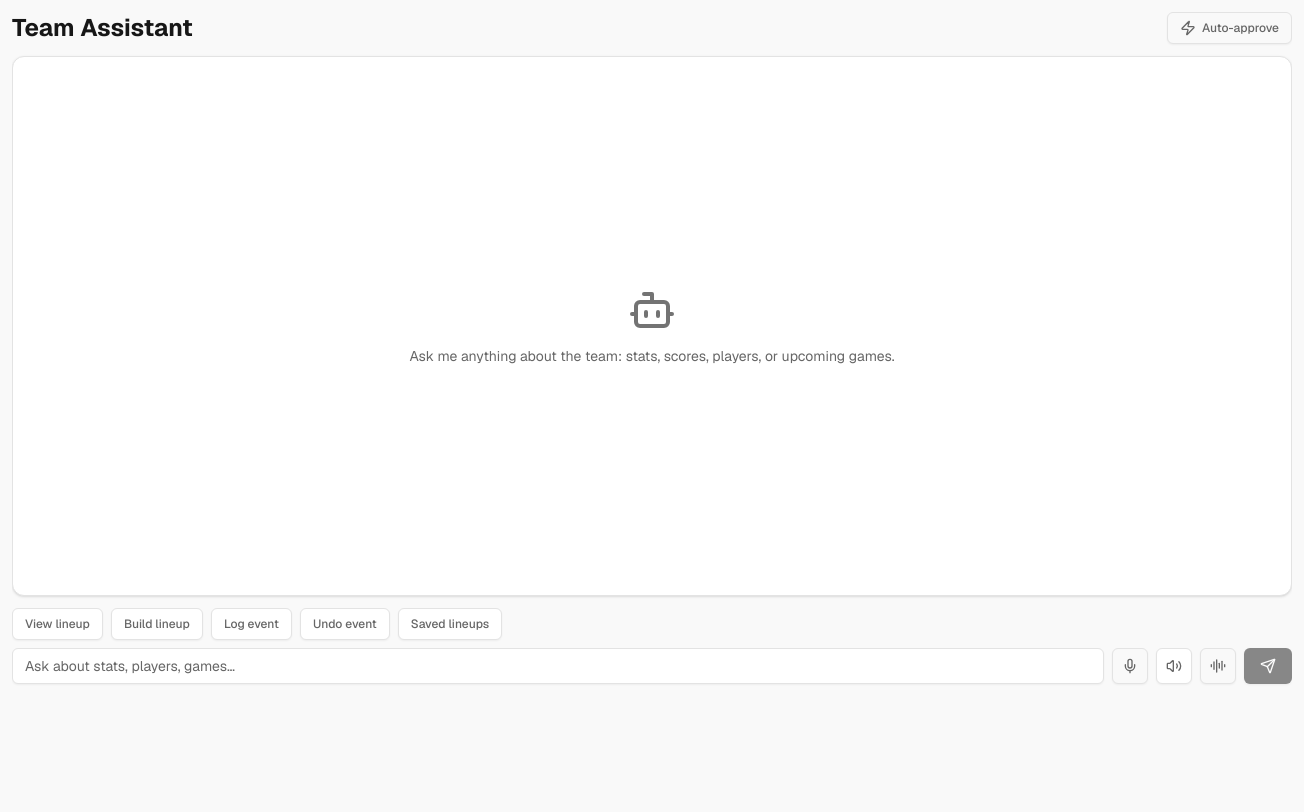
Chat inline proposal cards › Approve posts to /api/chat/confirm and settles with the receipt surfaced
Expected: the text "Ask me anything about the team" is shown, [409, 347, 895, 365]
In the field with placeholder "Ask about stats, players, games…": (558, 666) [12, 648, 1104, 684], type "put maya on line 1"
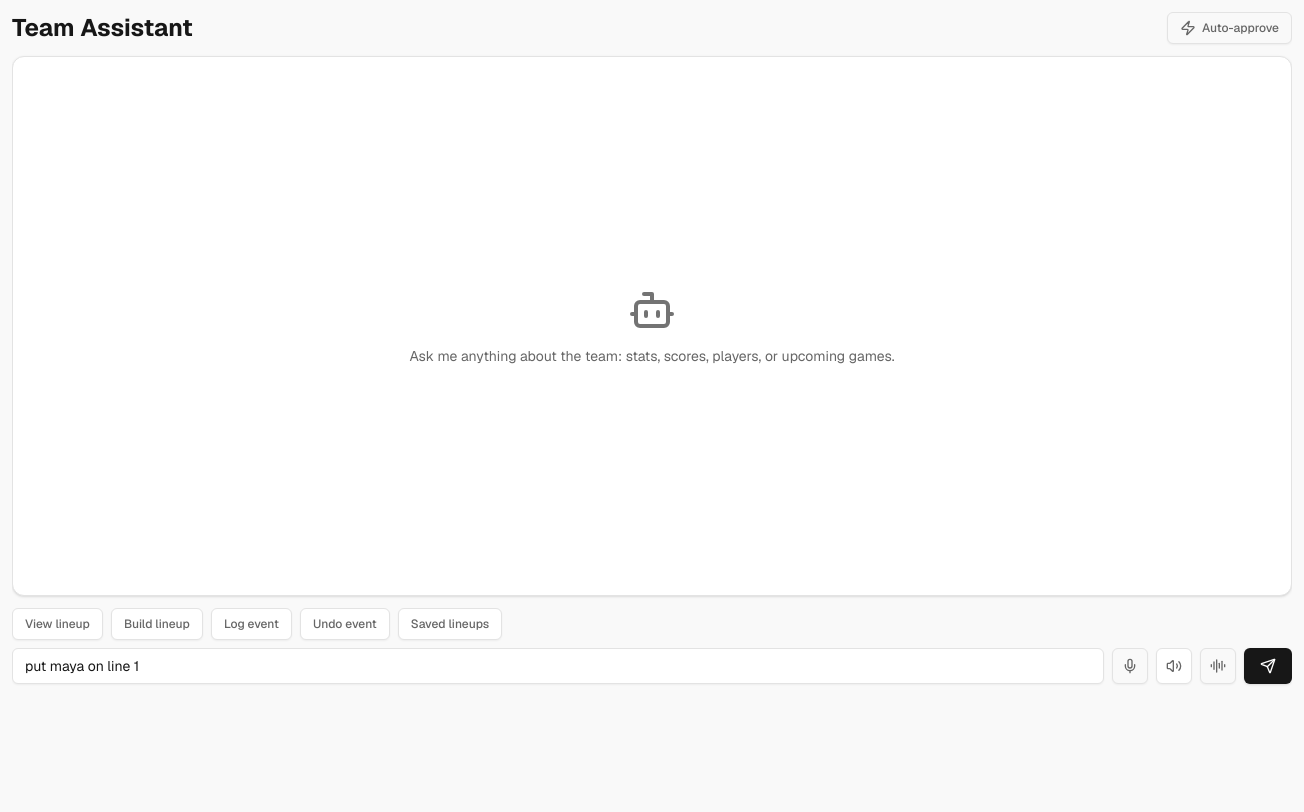
Press Enter in the field with placeholder "Ask about stats, players, games…", box [12, 648, 1104, 684]
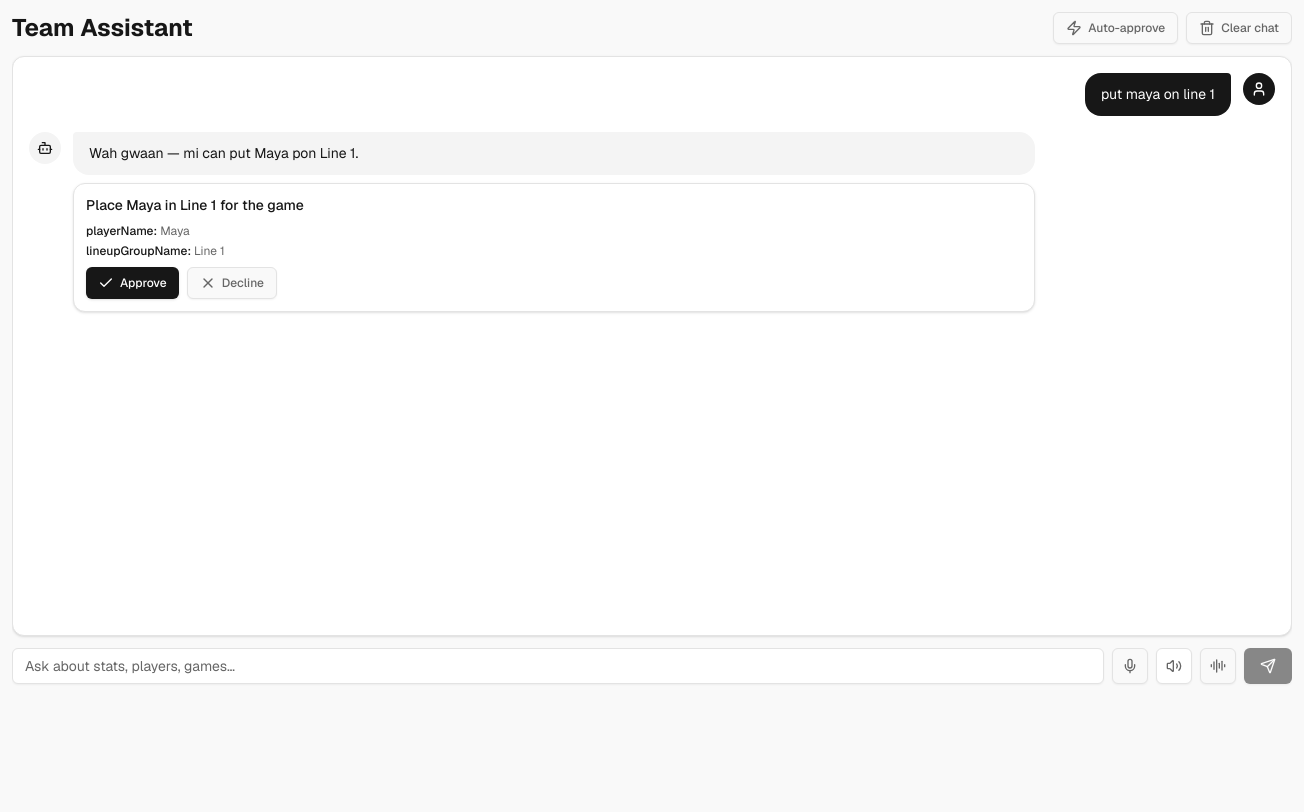
Expected: the button "Approve" is shown
Click the button "Approve": (132, 283) [86, 267, 179, 299]
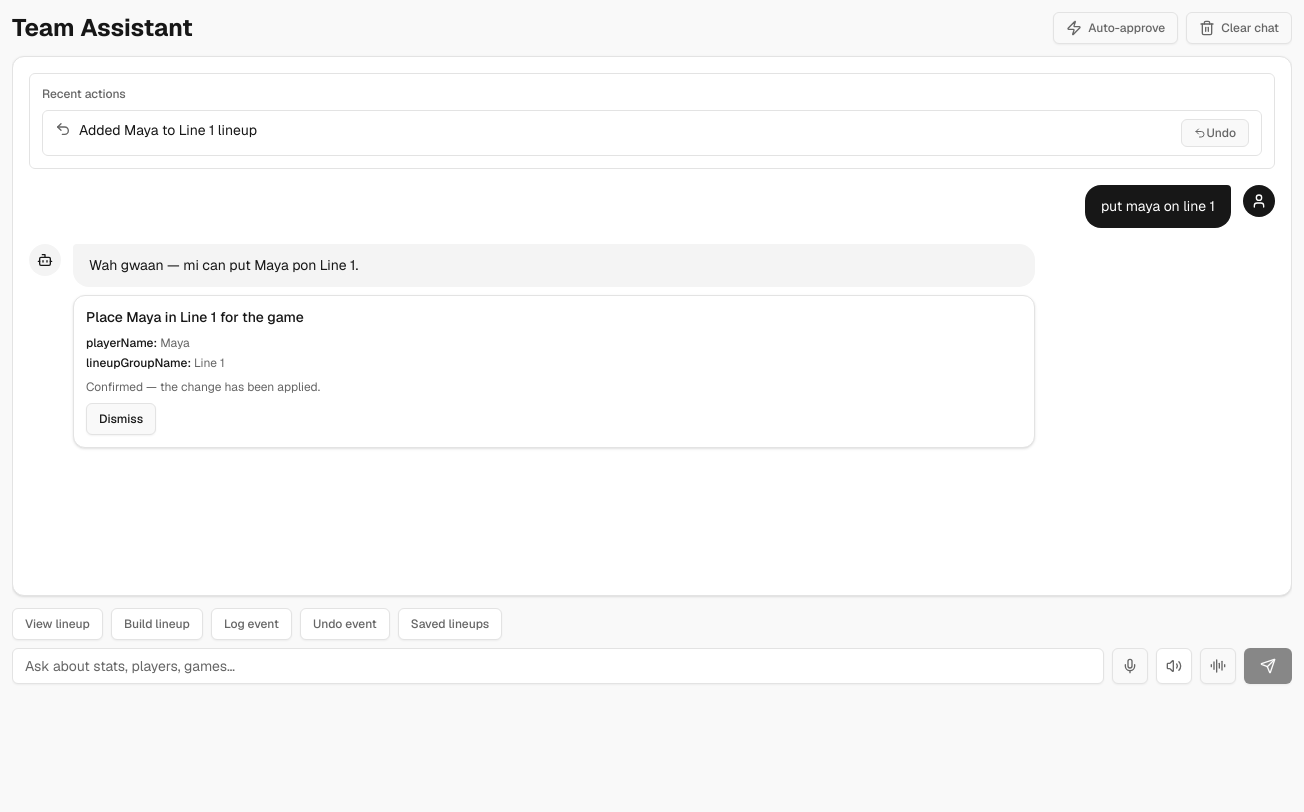
Expected: the text "Confirmed — the change has been applied." is shown, [86, 379, 320, 395]
Expected: the text "Added Maya to Line 1 lineup" is shown, [79, 121, 257, 139]
